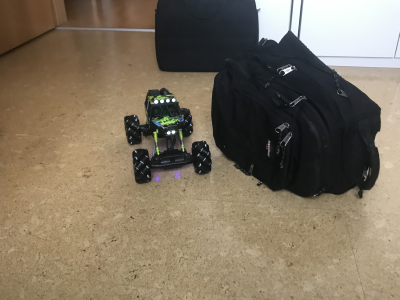remote control car: (121, 87, 214, 185)
